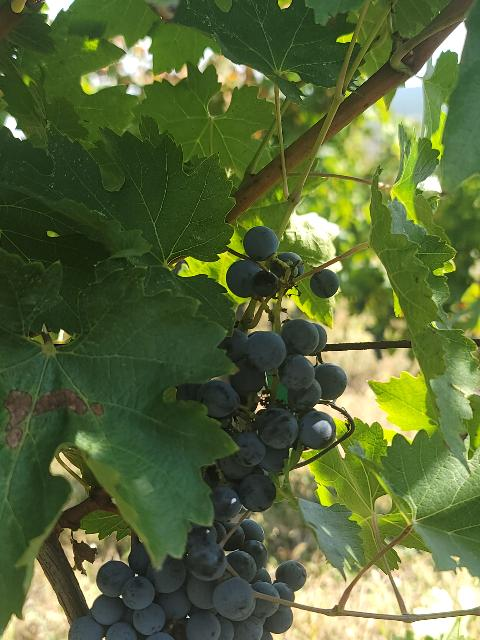grapes: (178, 226, 346, 510), (69, 521, 306, 640)
